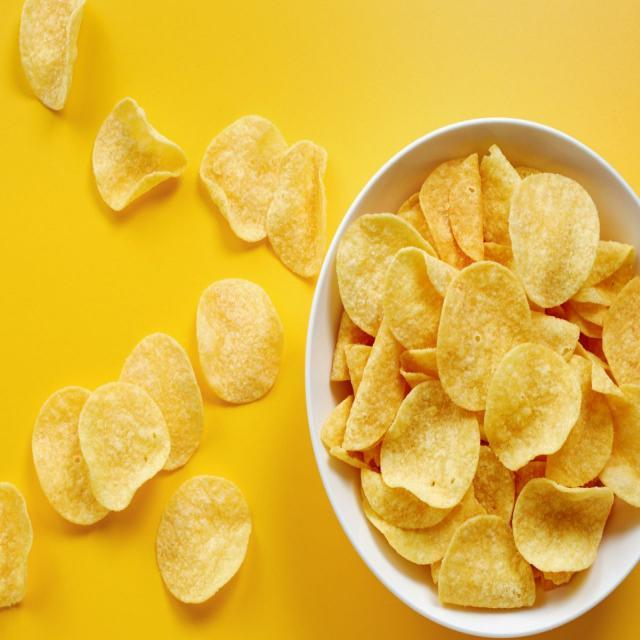Chips packaged: (395, 214, 609, 550), (74, 376, 175, 512), (156, 471, 256, 607), (89, 95, 189, 223), (194, 278, 288, 400)
